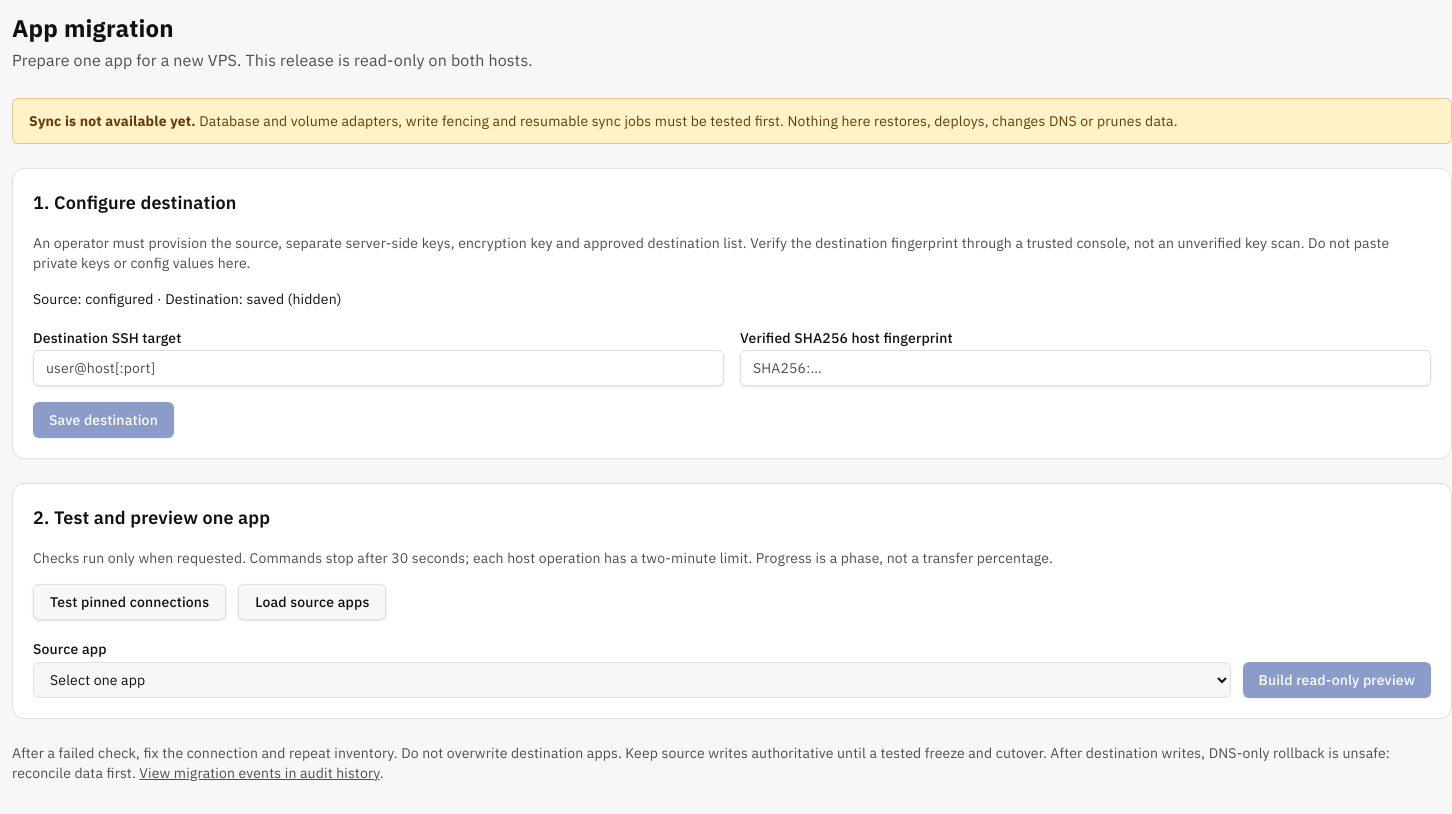
Test: migration planning UI › keeps input private, sends no key content and clears it after saving
The width and height of the screenshot is (1452, 814).
Expected: the text "Source: configured · Destination: saved (hidden)" is shown, top-left (33, 290), bottom-right (342, 308)
Type "operator@destination.invalid" into the password field labelled "Destination SSH target". click: (378, 368)
box: top-left (33, 350), bottom-right (724, 386)
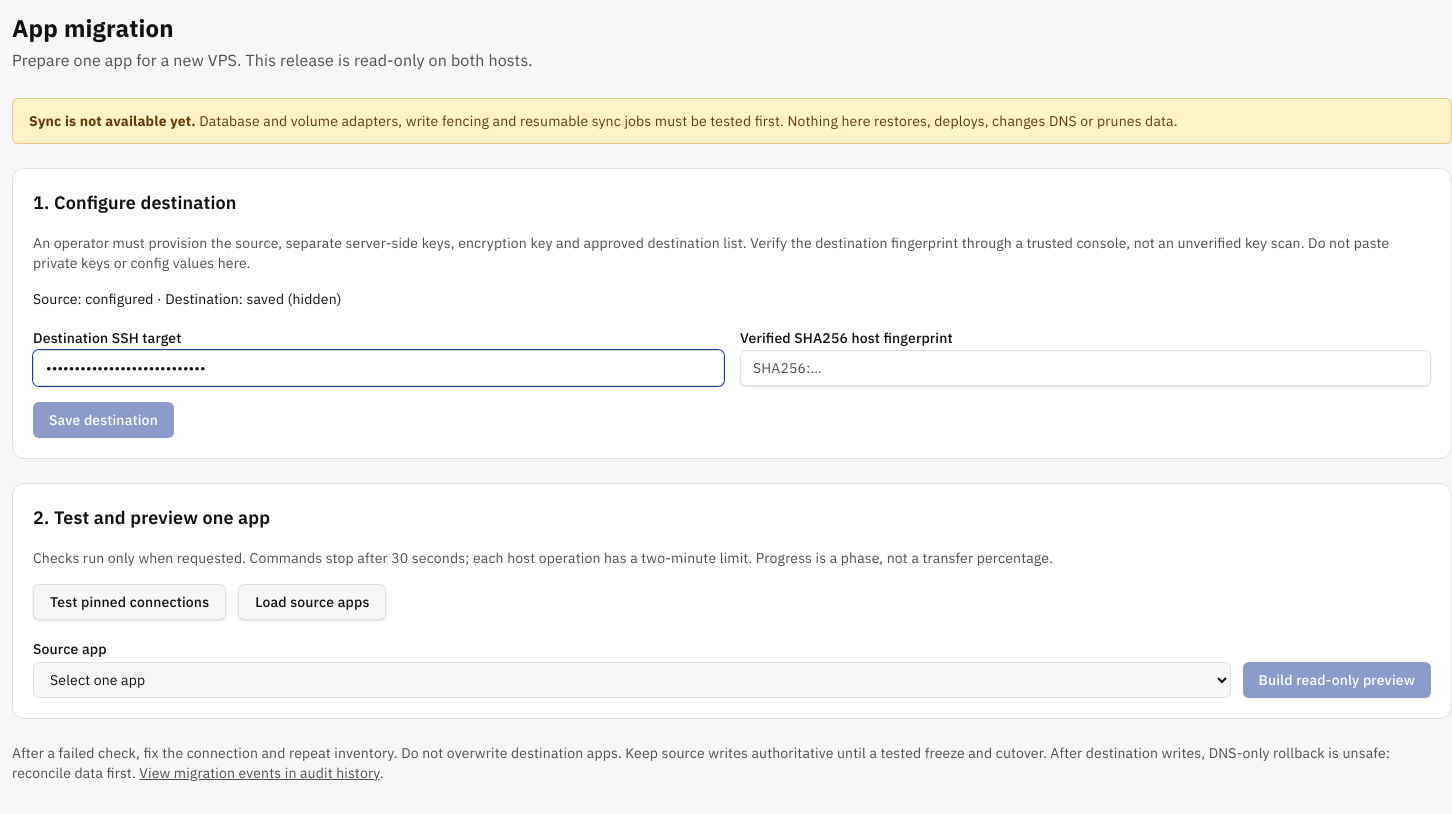
Type "synthetic-pin" into the password field labelled "Verified SHA256 host fingerprint". click: (1086, 368)
box: top-left (740, 350), bottom-right (1431, 386)
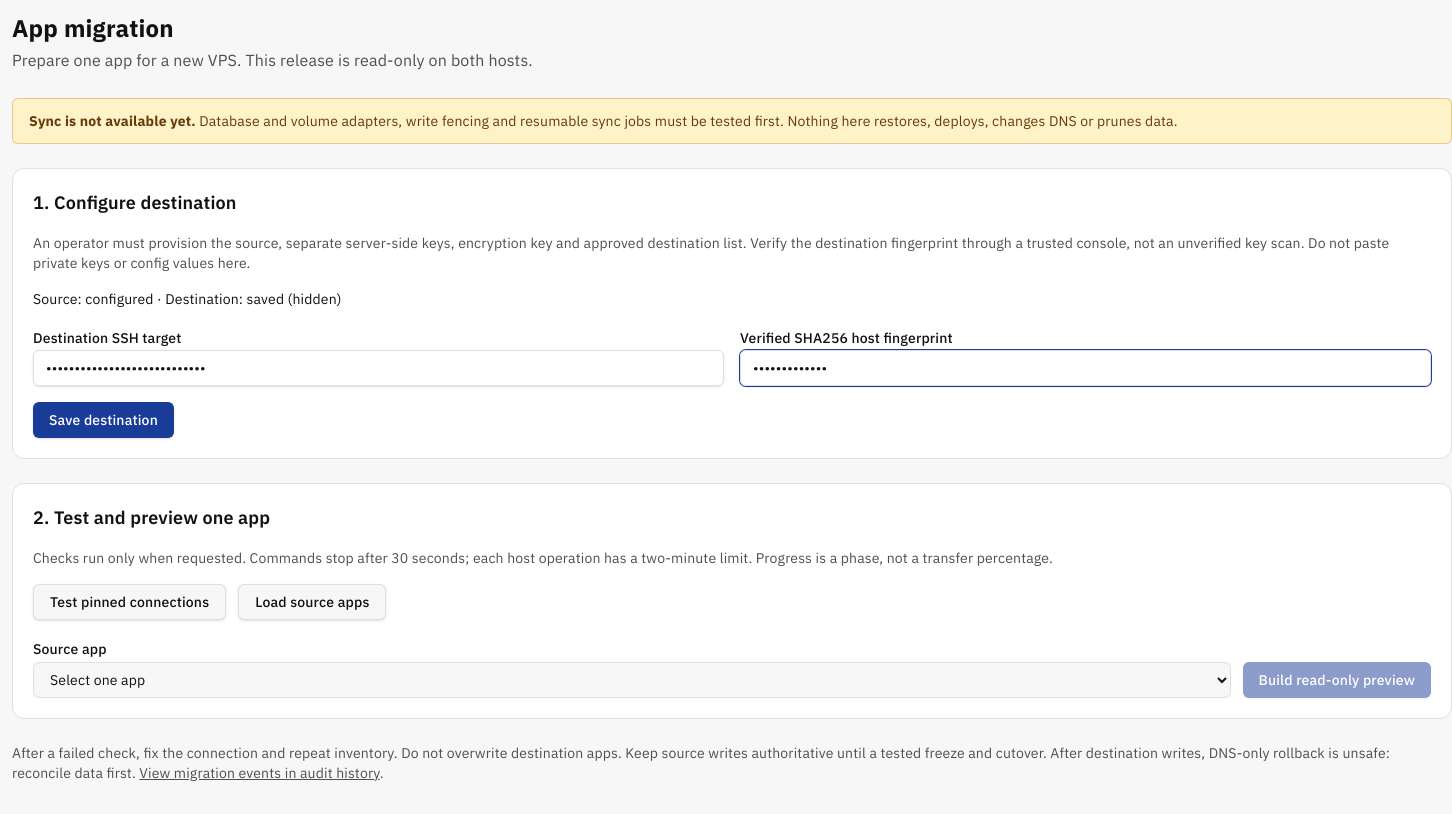
Click the button "Save destination". click: (103, 420)
box: top-left (33, 402), bottom-right (174, 438)
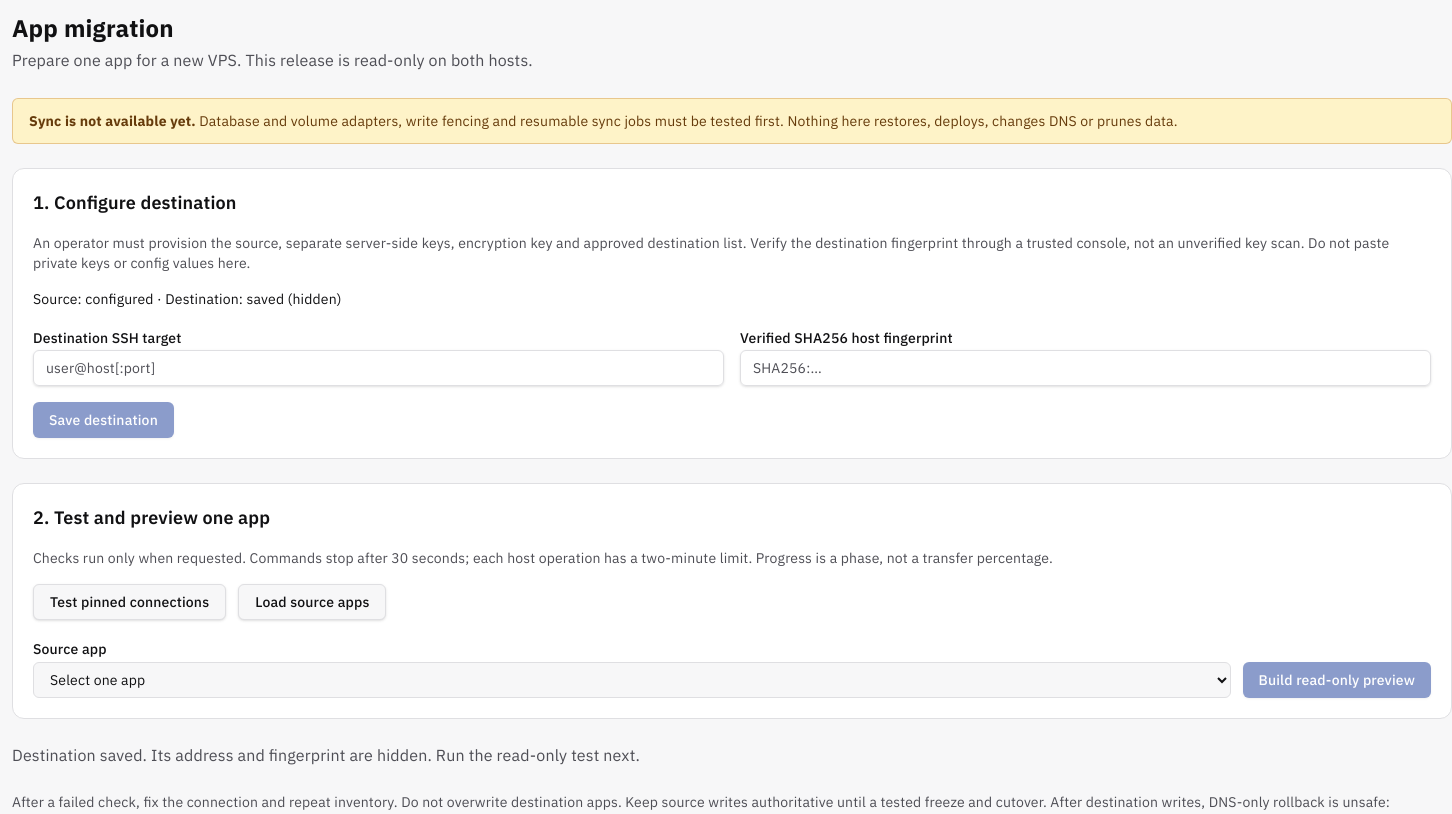
Result: the text "Destination saved" is shown at top-left (12, 745), bottom-right (640, 765)
Result: the password field labelled "Destination SSH target" is empty at top-left (33, 350), bottom-right (724, 386)
Result: the password field labelled "Verified SHA256 host fingerprint" is empty at top-left (740, 350), bottom-right (1431, 386)
